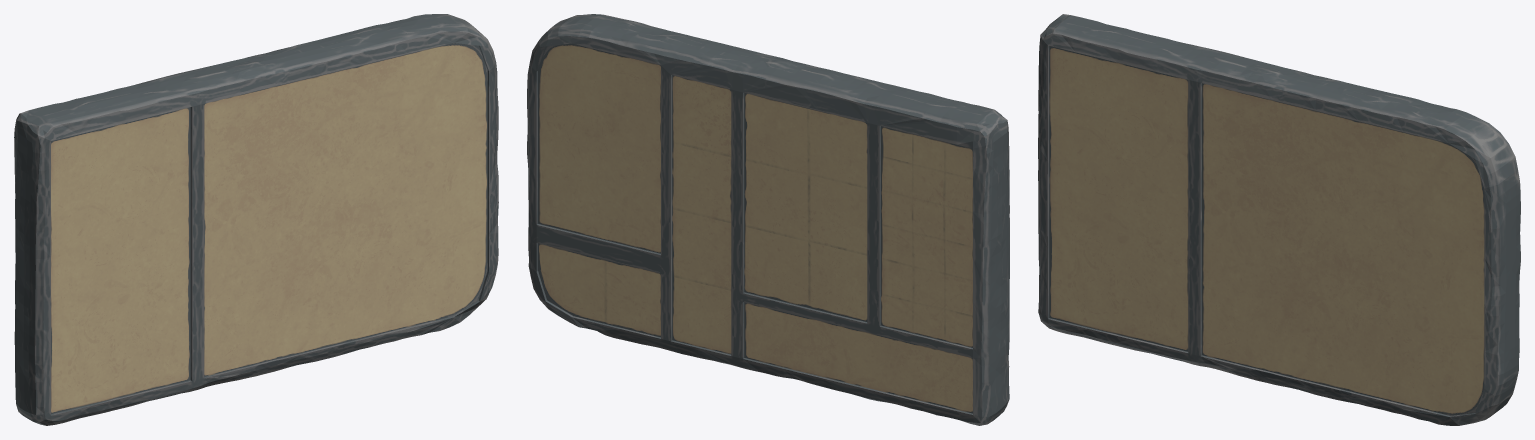
Rendered from inventory.fbx.
The picture shows the model from 3 angles, left to right: view 1: azimuth 30°, elevation 25°; view 2: azimuth 150°, elevation 25°; view 3: azimuth 330°, elevation 25°; orthographic projection.
Visible parts, largest first — view 1: Default; view 2: Default; view 3: Default.
Part boxes in pixels (x1,y1,x2,y2): Default: [14, 14, 498, 425]; Default: [527, 14, 1009, 425]; Default: [1038, 14, 1520, 425].
Size of the model in its own units: 464 by 291 by 46.89.
Materials: 1 (1 with a texture image).
